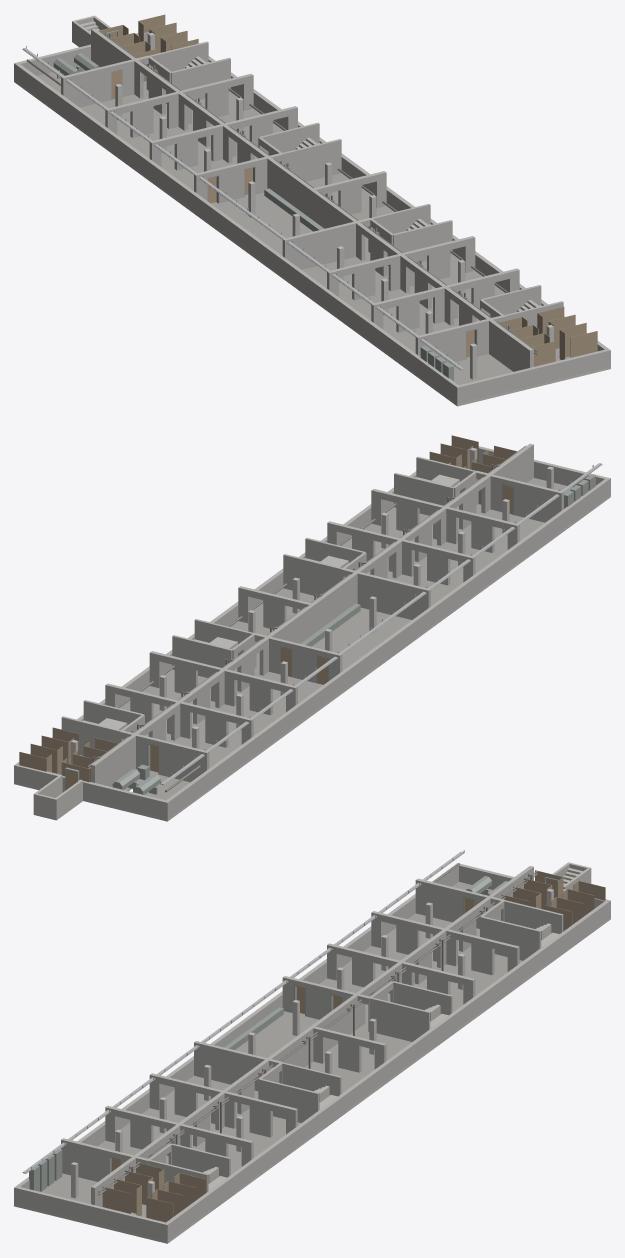
Rendered from b5_basement.glb.
3 views of the same model, one above another, from view 1: azimuth 30°, elevation 25°; view 2: azimuth 150°, elevation 25°; view 3: azimuth 330°, elevation 25° (orthographic).
Visible parts, largest first — view 1: b5_bsm_wall_f-1__basement_wall, b5_bsm_floor_f-1__basement_floor, b5_bsm_grid_f-1__storage_grid, b5_bsm_column_f-1__column, b5_bsm_equip_f-1__equipment, b5_bsm_tray_f-1__cable_tray, b5_bsm_floor_f-1__slab_edge, b5_bsm_pipe_f-1__pipe, b5_bsm_pit_f-1__monolith, b5_bsm_stairs_f-1__monolith; view 2: b5_bsm_wall_f-1__basement_wall, b5_bsm_floor_f-1__basement_floor, b5_bsm_grid_f-1__storage_grid, b5_bsm_column_f-1__column, b5_bsm_equip_f-1__equipment, b5_bsm_tray_f-1__cable_tray, b5_bsm_floor_f-1__slab_edge, b5_bsm_pit_f-1__monolith, b5_bsm_pipe_f-1__pipe, b5_bsm_fill_f-1__monolith; view 3: b5_bsm_wall_f-1__basement_wall, b5_bsm_floor_f-1__basement_floor, b5_bsm_grid_f-1__storage_grid, b5_bsm_column_f-1__column, b5_bsm_pipe_f-1__pipe, b5_bsm_equip_f-1__equipment, b5_bsm_tray_f-1__cable_tray, b5_bsm_floor_f-1__slab_edge, b5_bsm_pit_f-1__monolith, b5_bsm_stairs_f-1__monolith.
Boxes of the visible parts, x1,y1,x2,y2 form: b5_bsm_wall_f-1__basement_wall: (14,28,610,405); b5_bsm_floor_f-1__basement_floor: (37,65,570,384); b5_bsm_grid_f-1__storage_grid: (99,14,597,366); b5_bsm_column_f-1__column: (115,32,553,379); b5_bsm_equip_f-1__equipment: (53,30,507,381); b5_bsm_tray_f-1__cable_tray: (22,45,463,370); b5_bsm_floor_f-1__slab_edge: (14,66,610,406); b5_bsm_pipe_f-1__pipe: (26,30,537,355); b5_bsm_pit_f-1__monolith: (72,15,110,47); b5_bsm_stairs_f-1__monolith: (185,56,539,311); b5_bsm_wall_f-1__basement_wall: (14,443,610,821); b5_bsm_floor_f-1__basement_floor: (79,478,572,800); b5_bsm_grid_f-1__storage_grid: (19,435,517,782); b5_bsm_column_f-1__column: (71,448,553,764); b5_bsm_equip_f-1__equipment: (65,465,595,794); b5_bsm_tray_f-1__cable_tray: (160,463,602,785); b5_bsm_floor_f-1__slab_edge: (14,495,610,821); b5_bsm_pit_f-1__monolith: (33,774,82,820); b5_bsm_pipe_f-1__pipe: (87,445,525,792); b5_bsm_fill_f-1__monolith: (83,474,459,730); b5_bsm_wall_f-1__basement_wall: (14,863,610,1243); b5_bsm_floor_f-1__basement_floor: (40,882,522,1217); b5_bsm_grid_f-1__storage_grid: (102,870,605,1222); b5_bsm_column_f-1__column: (71,889,553,1198); b5_bsm_pipe_f-1__pipe: (98,863,537,1195); b5_bsm_equip_f-1__equipment: (29,874,557,1191); b5_bsm_tray_f-1__cable_tray: (22,850,464,1173); b5_bsm_floor_f-1__slab_edge: (14,917,610,1243); b5_bsm_pit_f-1__monolith: (552,862,591,889); b5_bsm_stairs_f-1__monolith: (203,923,551,1183).
Size of the model in its own units: 12 by 2.68 by 63.6.
